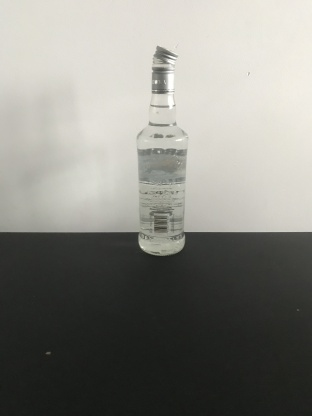nakretka: (150, 43, 179, 94)
